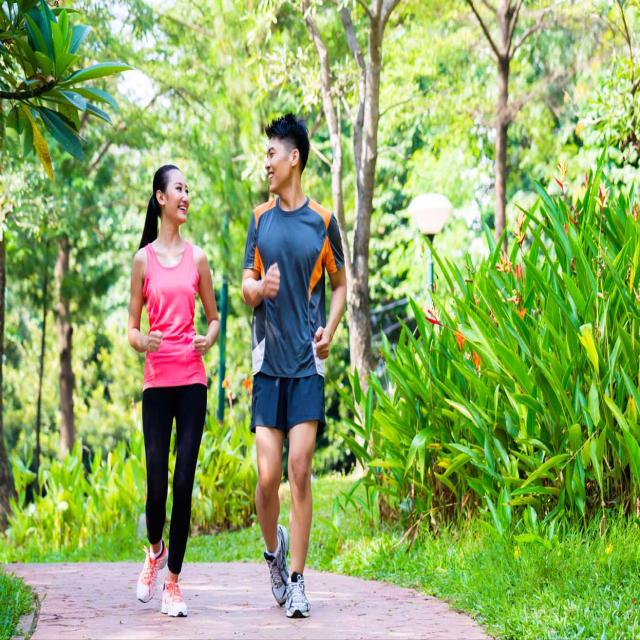Person: (242, 112, 347, 618), (128, 166, 219, 619)
